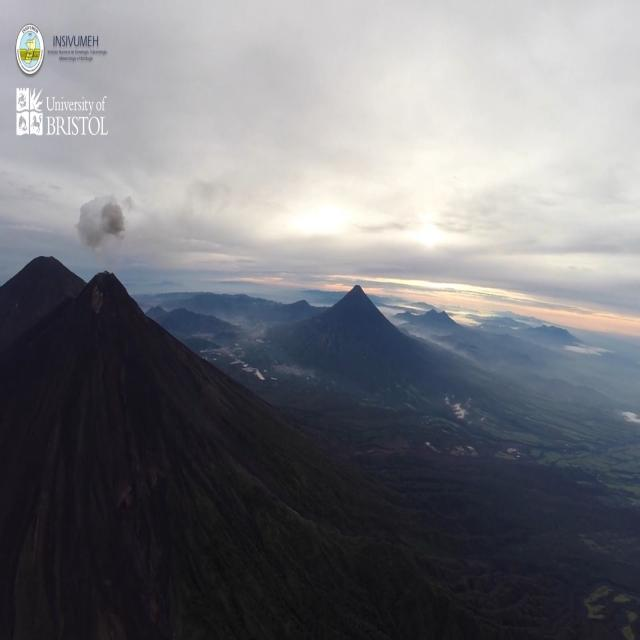Plume: (68, 196, 137, 261)
Summit: (29, 268, 168, 346)
